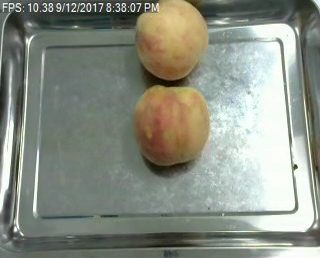Peach: (132, 85, 211, 165), (133, 0, 208, 81)
